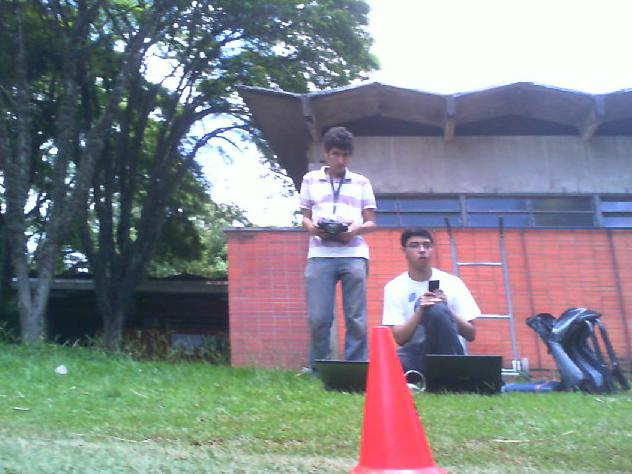0 cone: (354, 325, 444, 474)
